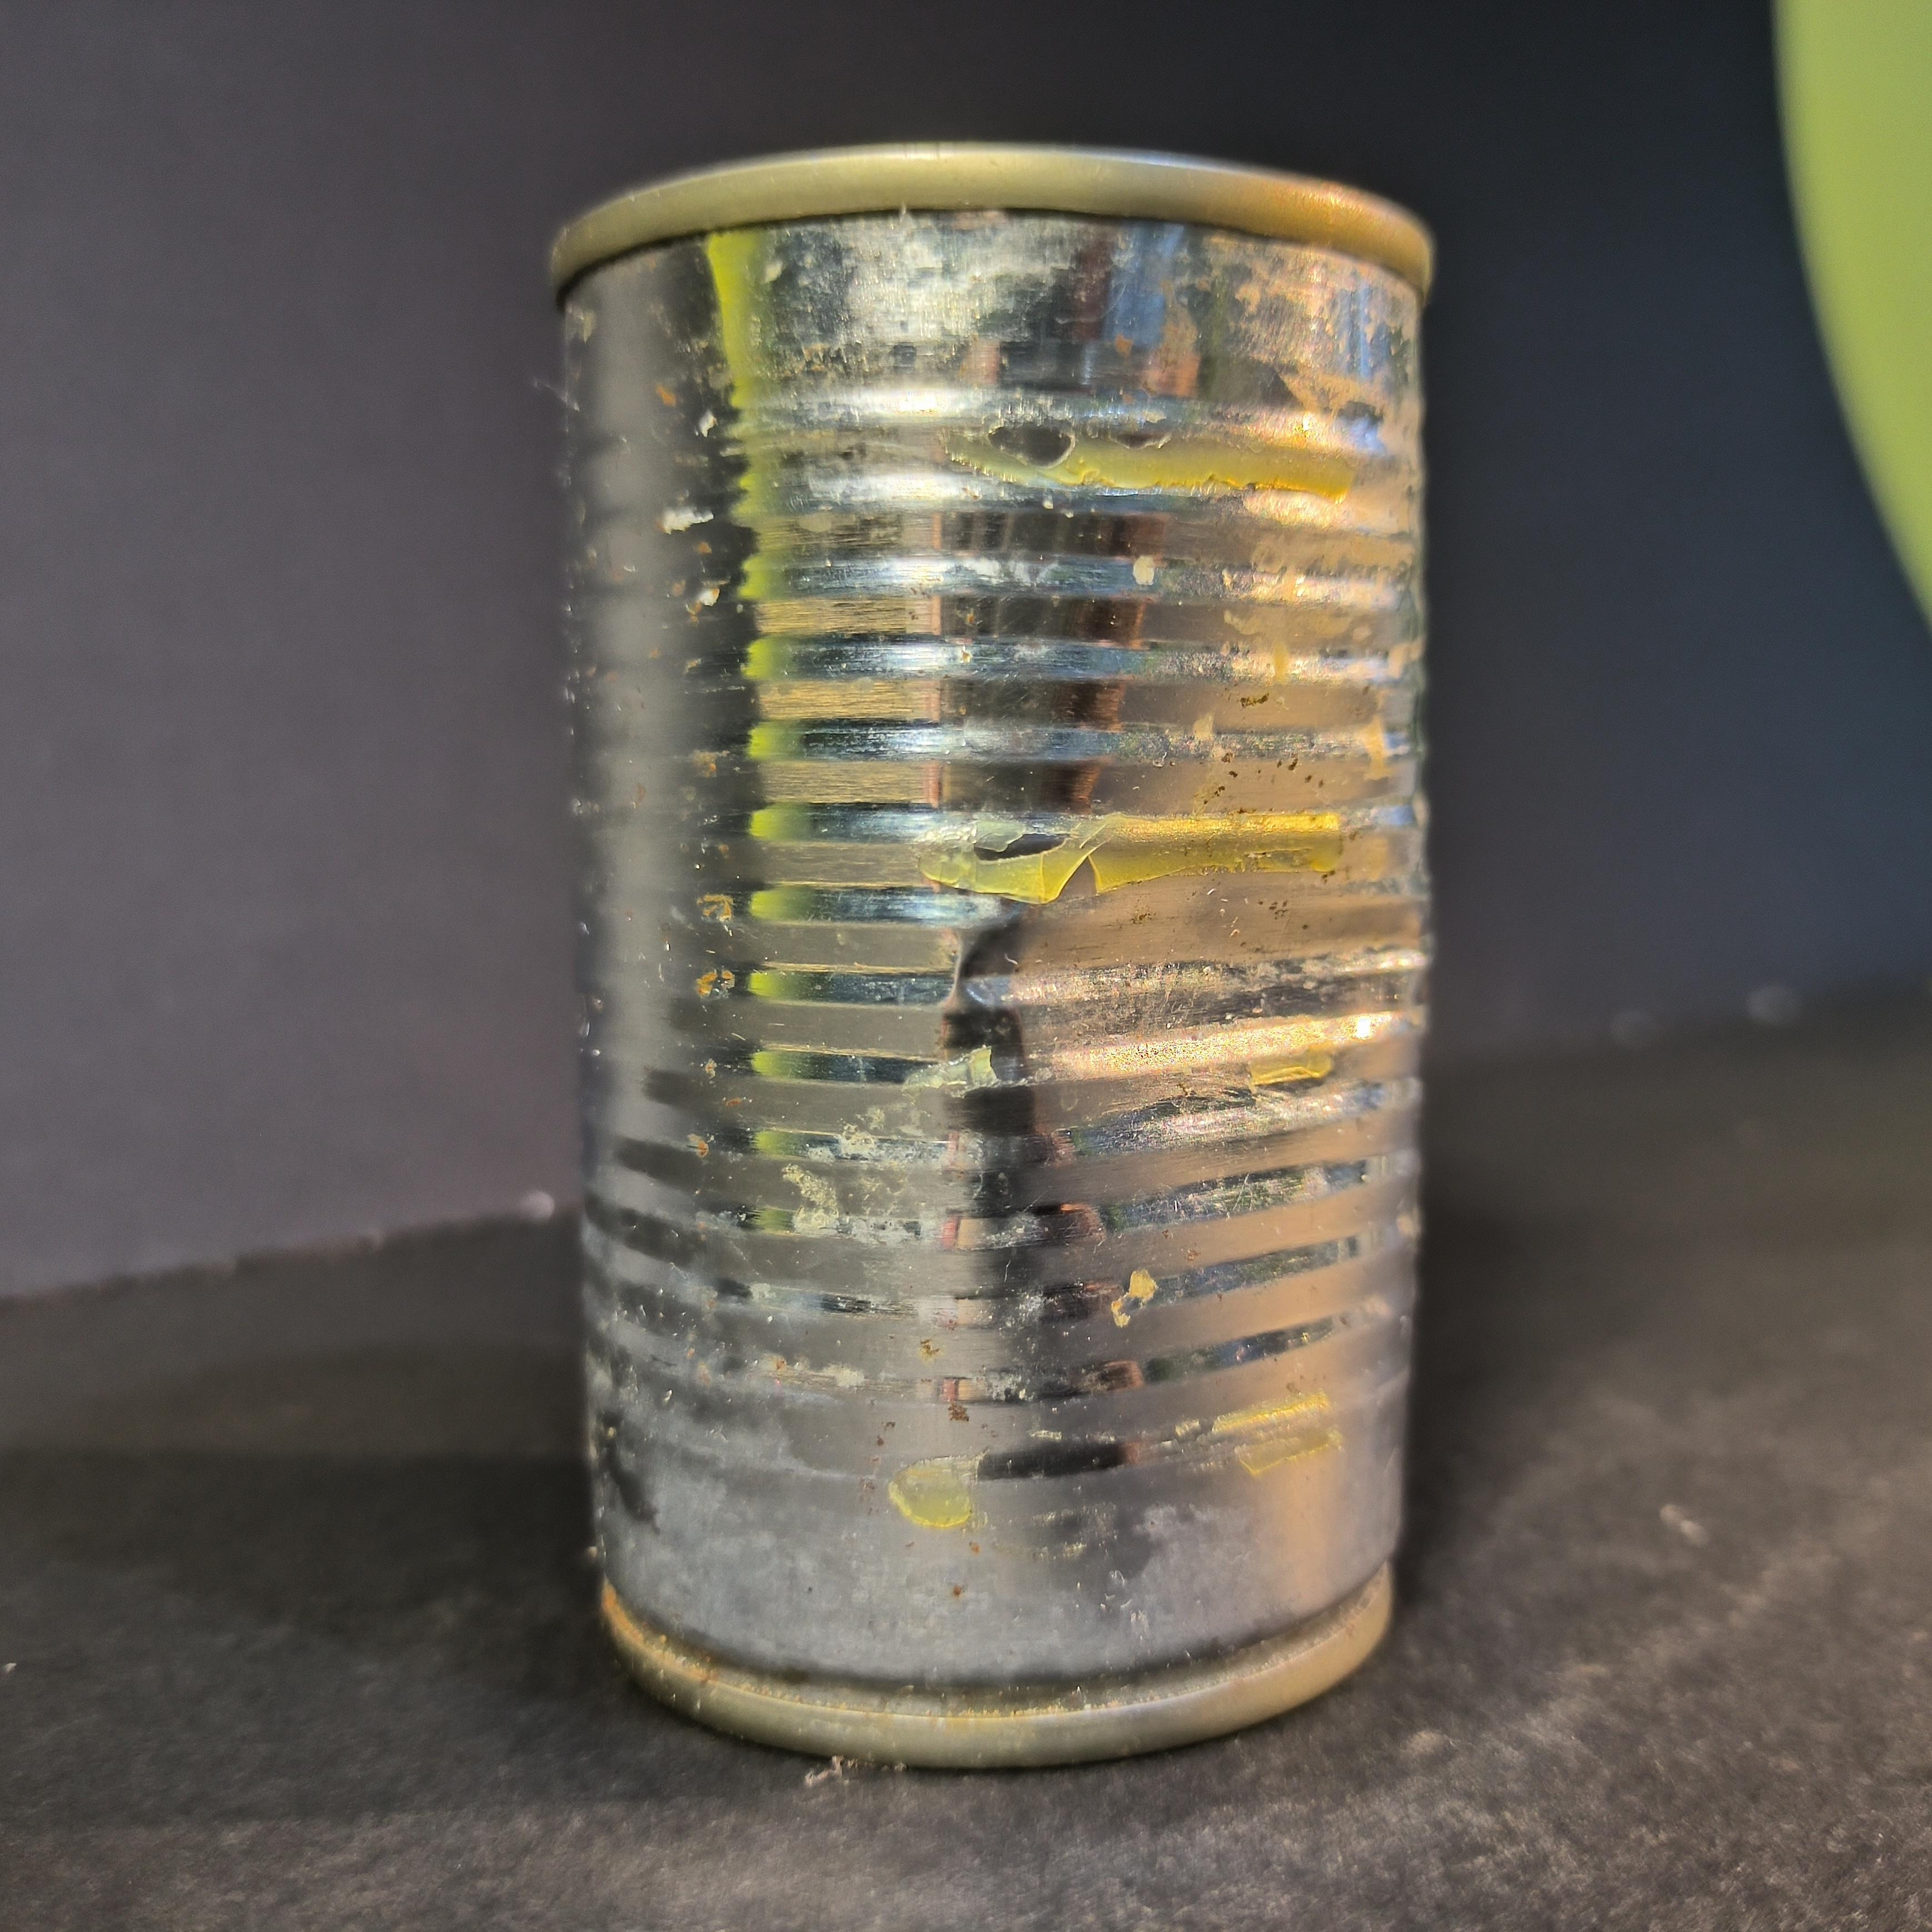Minor Defect: (527, 117, 1456, 1794)
